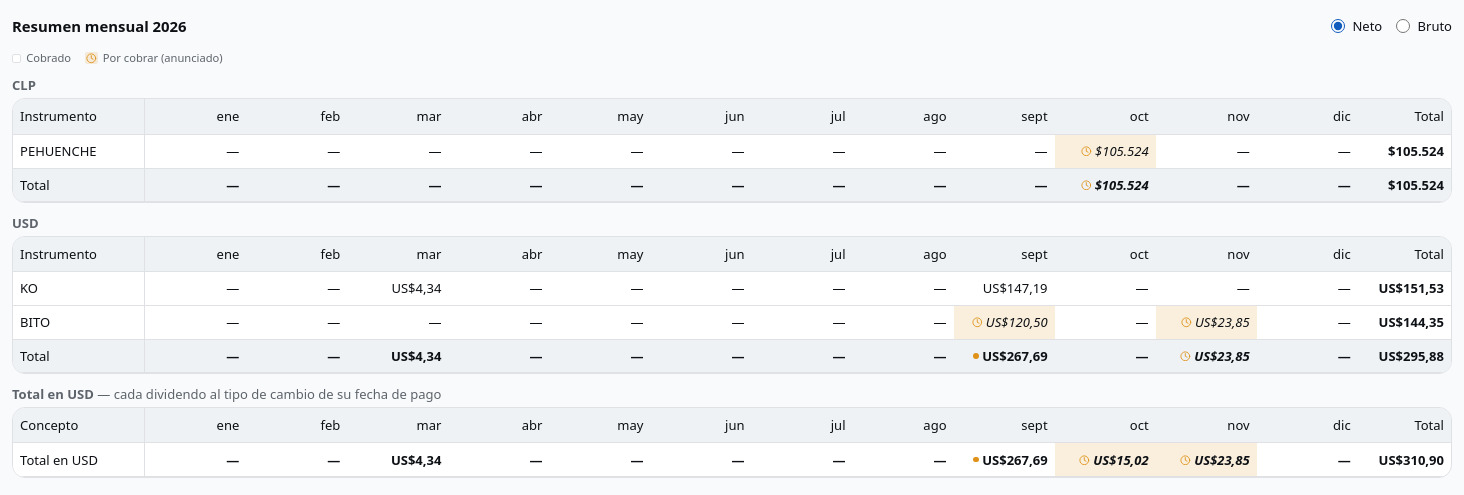
Scenario: MonthlySummary — cobrado y por cobrar › el mixto muestra en un tooltip el monto anunciado que entrega la API (sin restar nada)
What coordinates should you click on to do the following:
click the button "US$267,69" in the row of "US$295,88"
I would click on:
 (1010, 356)
Its box is [973, 347, 1048, 365].
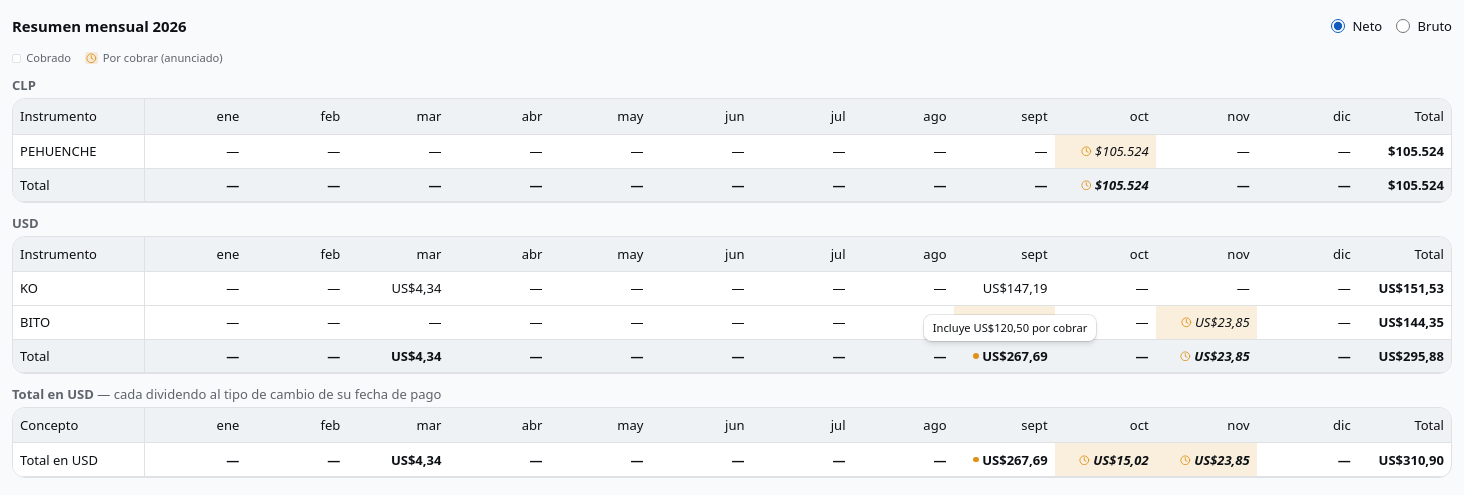
Expected: the tooltip reads "Incluye US$120,50 por cobrar", [933, 320, 1087, 335]
